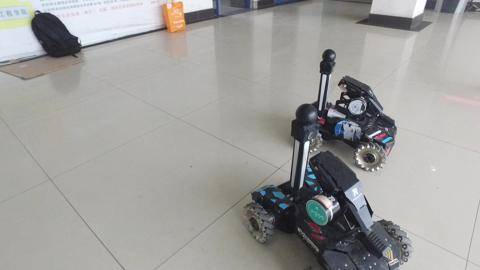bag: (29, 8, 86, 64)
chariot: (240, 104, 419, 270), (290, 41, 405, 177)
